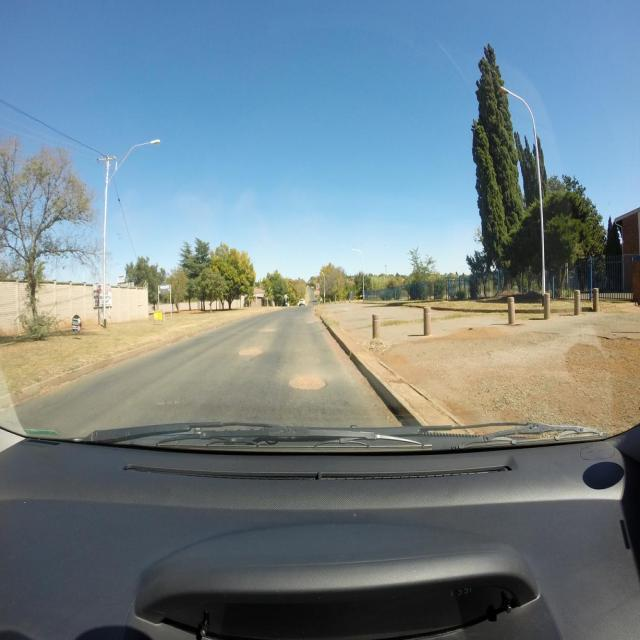pothole: (288, 378, 327, 391), (238, 348, 264, 356), (258, 328, 276, 333), (306, 321, 317, 324)
